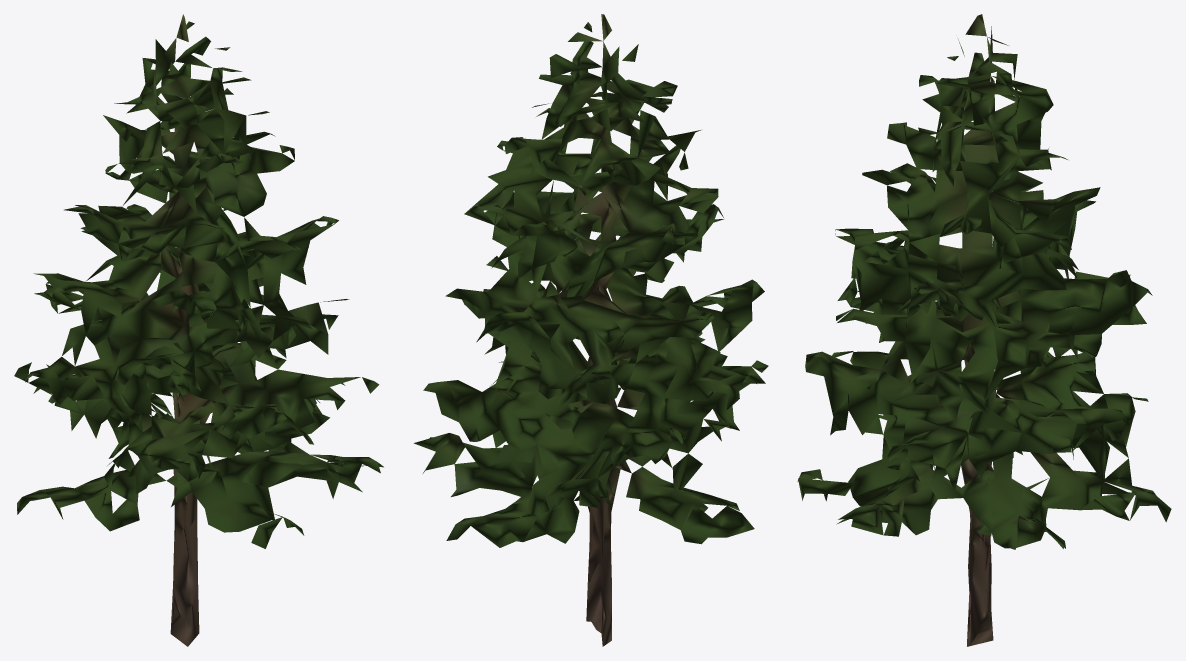
Rendered from cedar_b.2.glb.
3 views of the same model, side by side, from view 1: azimuth 30°, elevation 25°; view 2: azimuth 150°, elevation 25°; view 3: azimuth 270°, elevation 25° (orthographic).
Visible parts, largest first — view 1: lod; view 2: lod; view 3: lod.
Part boxes in pixels (x1,y1,x2,y2): lod: (14,14,383,646); lod: (414,14,768,646); lod: (797,14,1171,646).
Size of the model in its own units: 0.4978 by 0.9384 by 0.5017.
